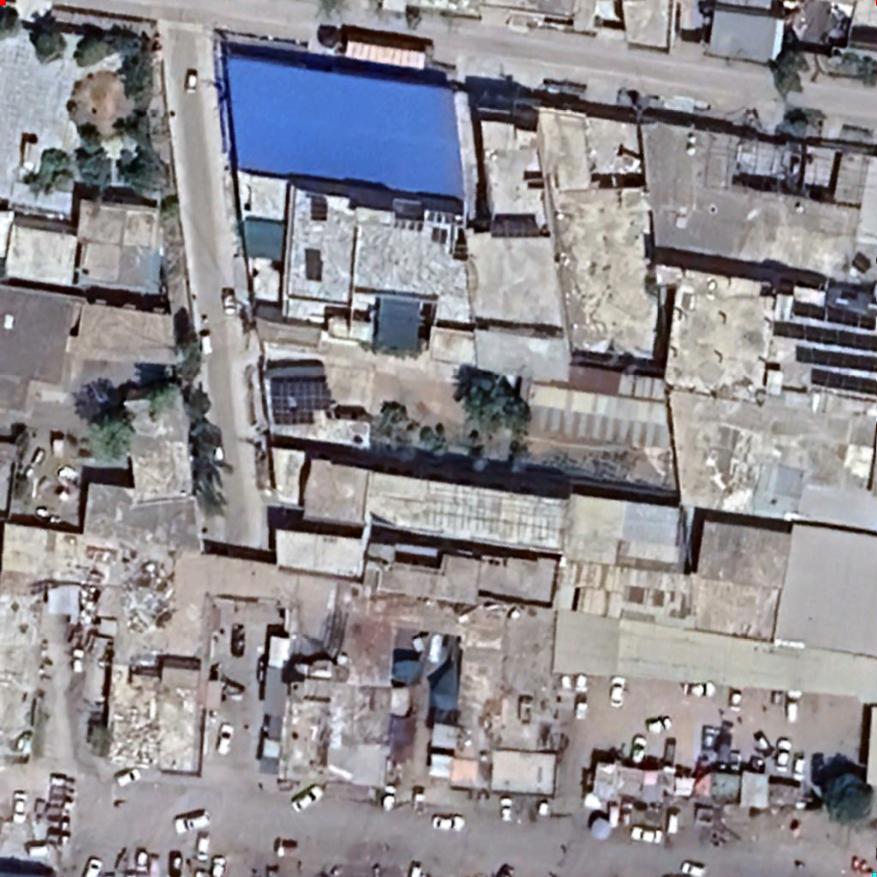Solarpanel: (756, 290, 876, 399), (262, 372, 332, 430)
